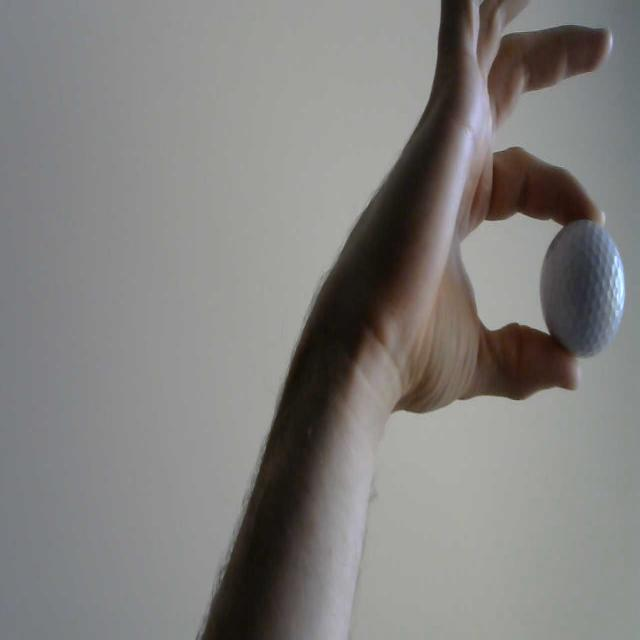golfball: (538, 222, 626, 358)
